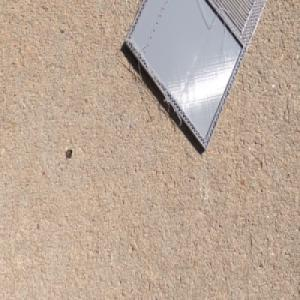PlasticPart: (122, 0, 269, 155)
